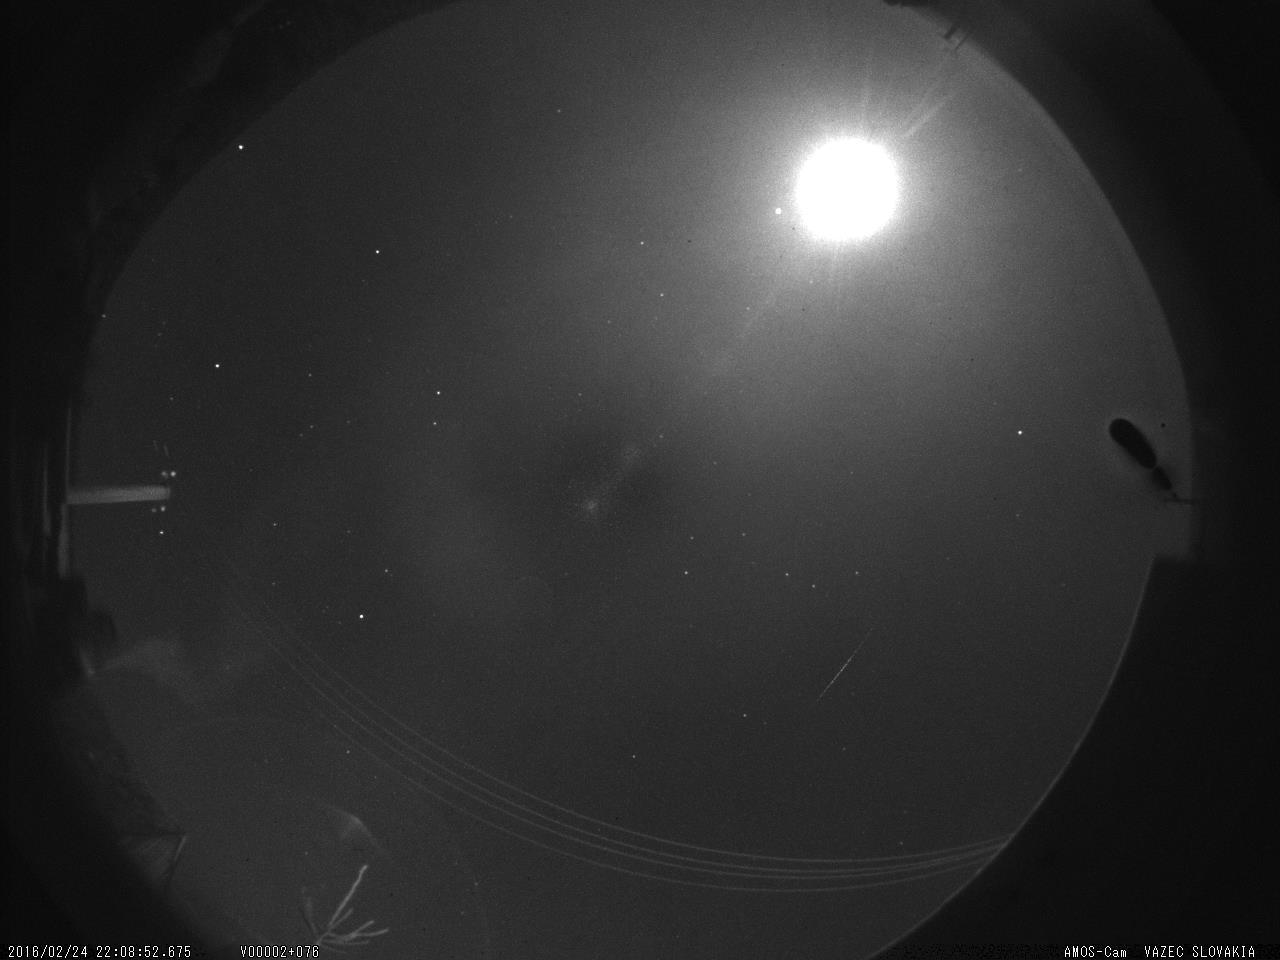Meteor: (805, 611, 889, 711)
